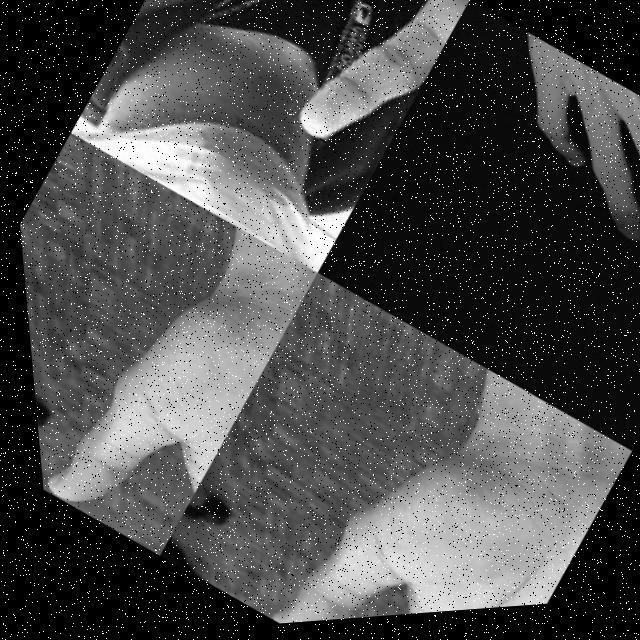no-gloves: (16, 200, 330, 563), (239, 350, 620, 628), (388, 0, 640, 331), (199, 0, 483, 212)
